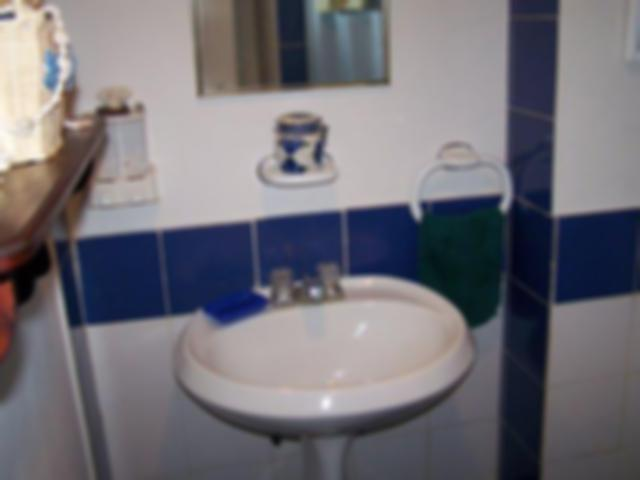Lavamanos: (173, 271, 479, 436)
